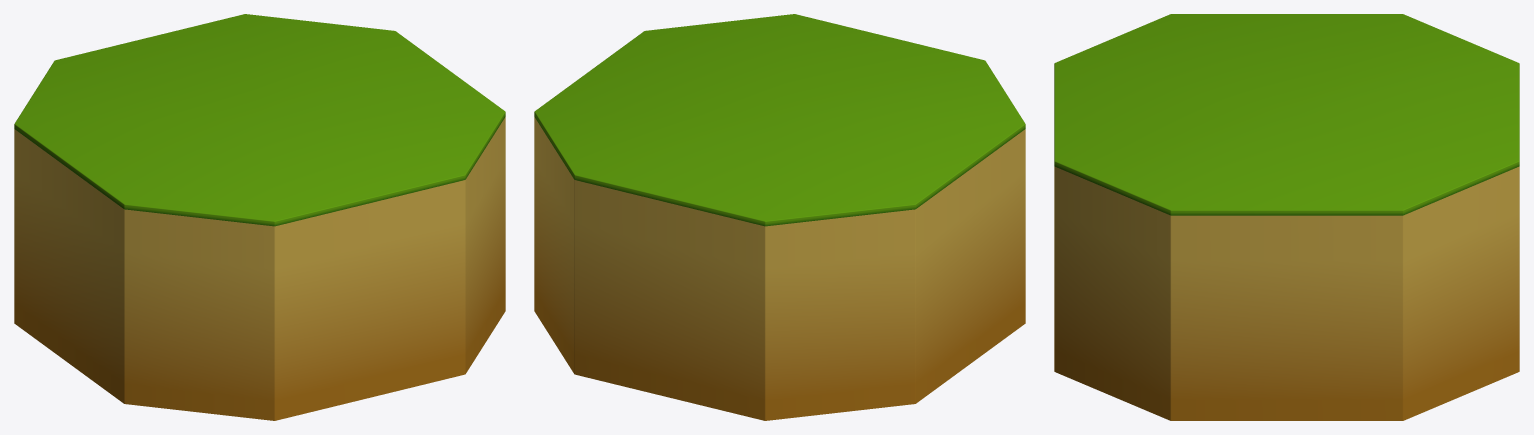
Rendered from LM100OCT.fbx.
3 views of the same model, side by side, from view 1: azimuth 30°, elevation 25°; view 2: azimuth 150°, elevation 25°; view 3: azimuth 270°, elevation 25° (orthographic). The views are drawn at different scales.
Visible parts, largest first — view 1: LOD0; view 2: LOD0; view 3: LOD0.
Boxes of the visible parts, bbox=[...] form: LOD0: bbox=[14, 14, 505, 420]; LOD0: bbox=[534, 14, 1025, 420]; LOD0: bbox=[1054, 14, 1519, 420].
Size of what is drawn, in the model's own units: 10000 by 10000 by 5000.
